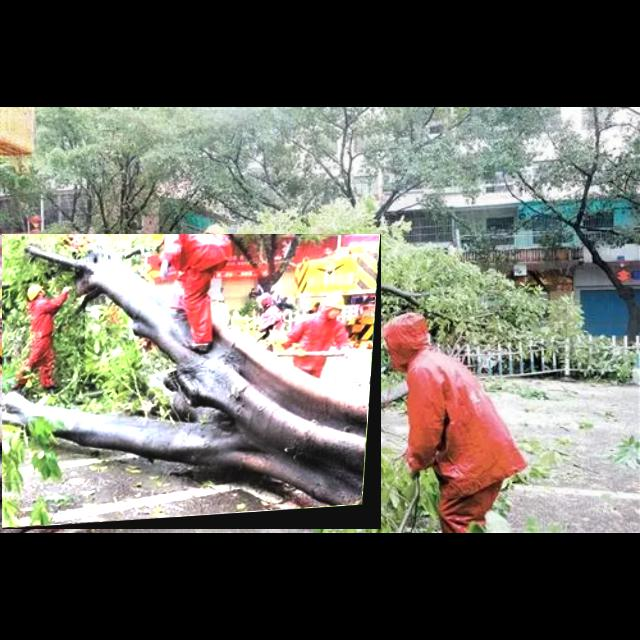Fallen Tree: (2, 234, 382, 530)
